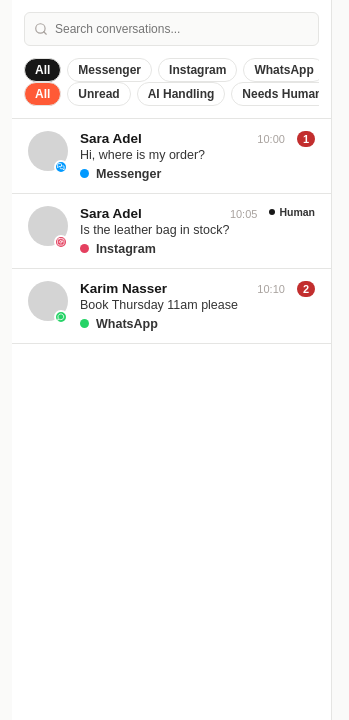
Inbox channel separation › Instagram and WhatsApp filters isolate their own threads
The width and height of the screenshot is (349, 720).
Expected: the text "Book Thursday 11am please" is shown, [80,298,238,312]
Click the button "Instagram".
click(198, 70)  # box [158,58,237,82]
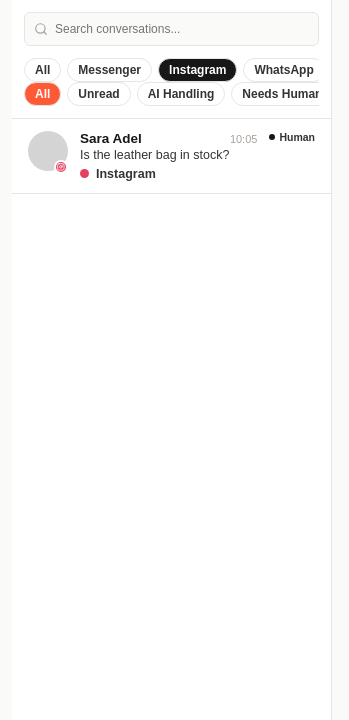
Expected: the text "Is the leather bag in stock?" is shown, [80,148,229,162]
Expected: the button "Hi, where is my order?" is gone
Click the button "WhatsApp".
click(284, 70)  # box [243,58,325,82]
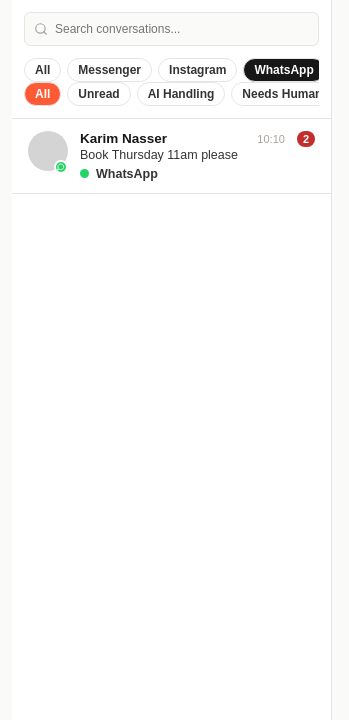
Expected: the text "Book Thursday 11am please" is shown, [80,148,238,162]
Expected: the button "Is the leather bag in stock?" is gone
